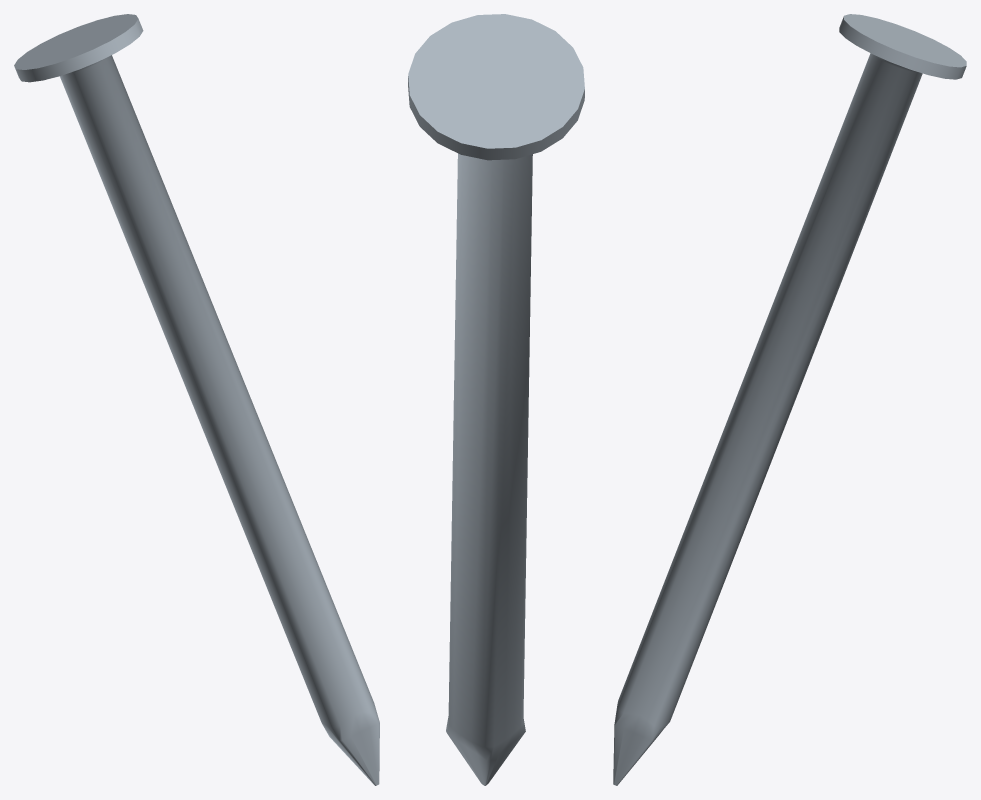
Rendered from iron-nail.glb.
3 renders of one model, left to right at view 1: azimuth 30°, elevation 25°; view 2: azimuth 150°, elevation 25°; view 3: azimuth 270°, elevation 25°, orthographic. The views are drawn at different scales.
Parts seen in each view (by area): view 1: Nail_Nail_0; view 2: Nail_Nail_0; view 3: Nail_Nail_0.
Boxes of the visible parts, x1,y1,x2,y2 form: Nail_Nail_0: [14, 14, 379, 785]; Nail_Nail_0: [408, 14, 584, 785]; Nail_Nail_0: [613, 14, 966, 785].
Size of the model in its own units: 0.00815 by 0.0245 by 0.0113.
